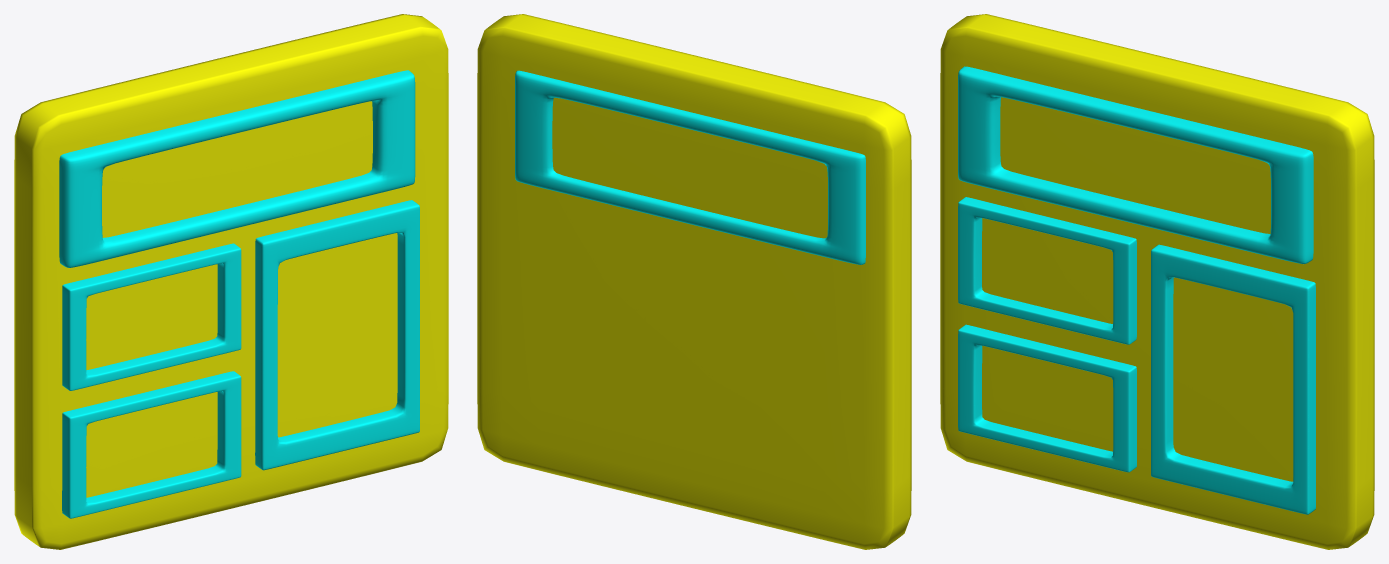
3 renders of one model, left to right at view 1: azimuth 30°, elevation 25°; view 2: azimuth 150°, elevation 25°; view 3: azimuth 330°, elevation 25°, orthographic.
Visible parts, largest first — view 1: pasted__pCube472; view 2: pasted__pCube472; view 3: pasted__pCube472.
Part boxes in pixels (x1,y1,x2,y2): pasted__pCube472: (14, 14, 448, 549); pasted__pCube472: (477, 14, 911, 549); pasted__pCube472: (940, 14, 1374, 549).
Size of the model in its own units: 0.9994 by 0.9994 by 0.1498.
